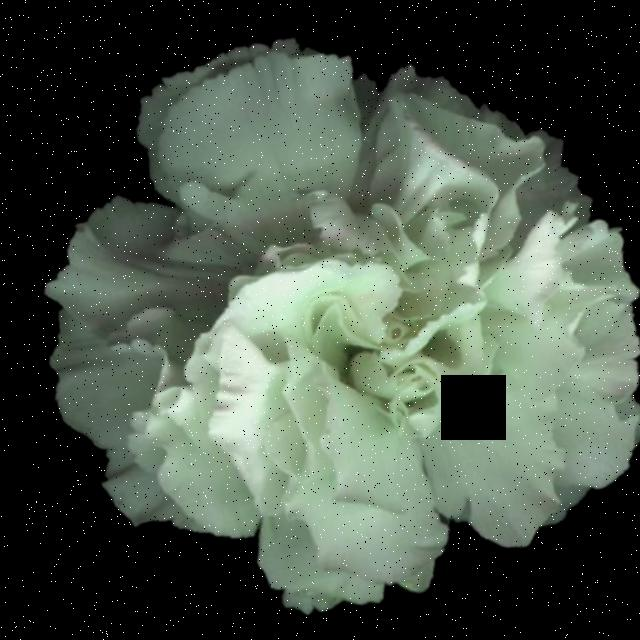carnation: (1, 0, 640, 640)
